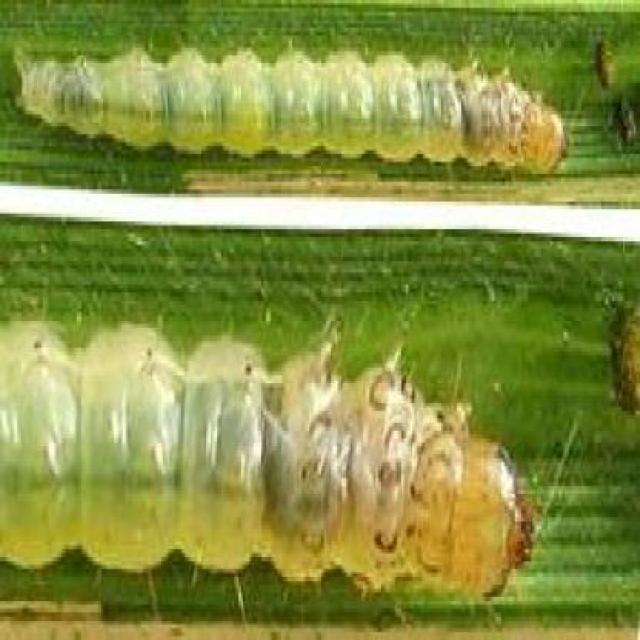leaf-folder: (41, 320, 542, 623), (14, 25, 588, 222)
